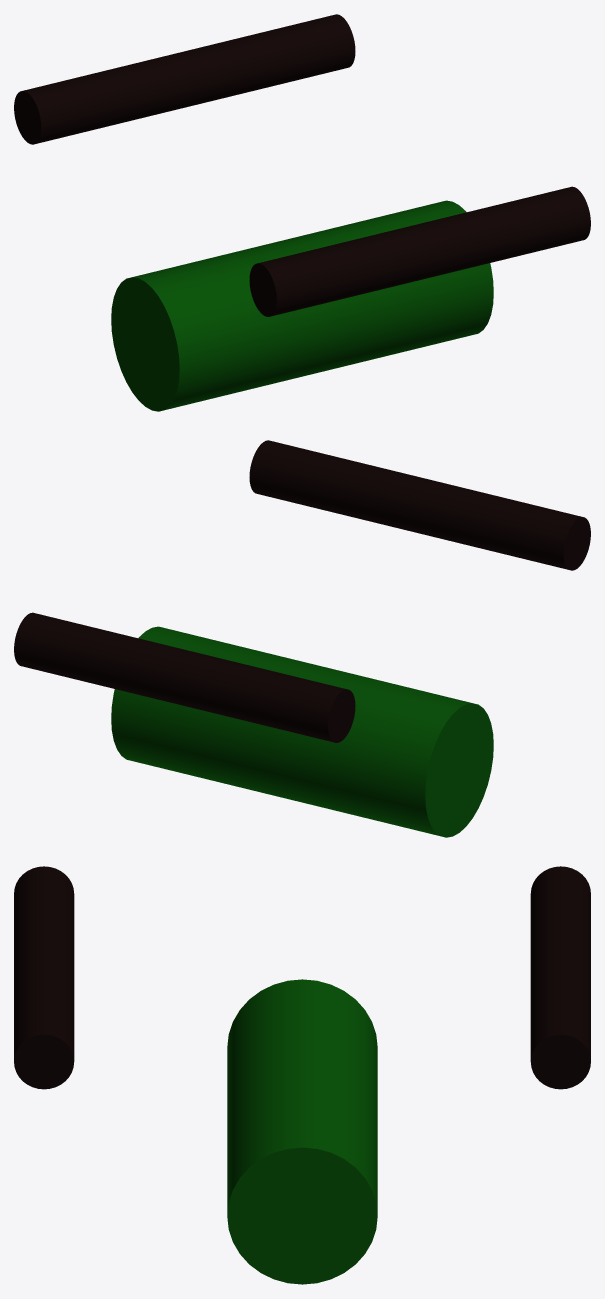
The model's file is track.obj.
3 renders of one model, top to bottom at view 1: azimuth 30°, elevation 25°; view 2: azimuth 150°, elevation 25°; view 3: azimuth 270°, elevation 25°, orthographic. The views are drawn at different scales.
Parts seen in each view (by area): view 1: Spine, Rails; view 2: Spine, Rails; view 3: Spine, Rails.
Boxes of the visible parts, x1,y1,x2,y2 form: Spine: [111, 200, 493, 411]; Rails: [14, 14, 590, 316]; Spine: [111, 626, 493, 837]; Rails: [14, 440, 590, 742]; Spine: [227, 979, 377, 1284]; Rails: [14, 866, 590, 1089].
Bounding box in the file's own units: 1.1 × 0.7625 × 1.59.
